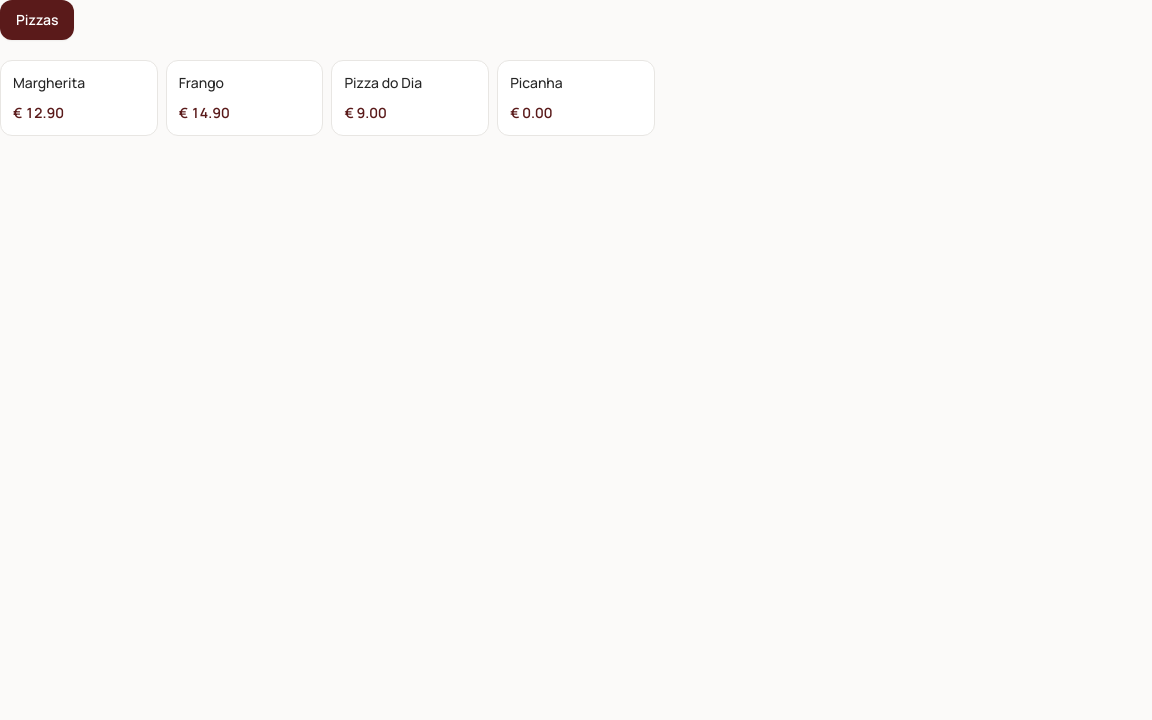
it: meia-meia: sem outro sabor possível diz-o em vez de uma lista vazia
Click the button "Pizza do Dia € 9.00".
click(410, 98)  # box [331,60,489,136]
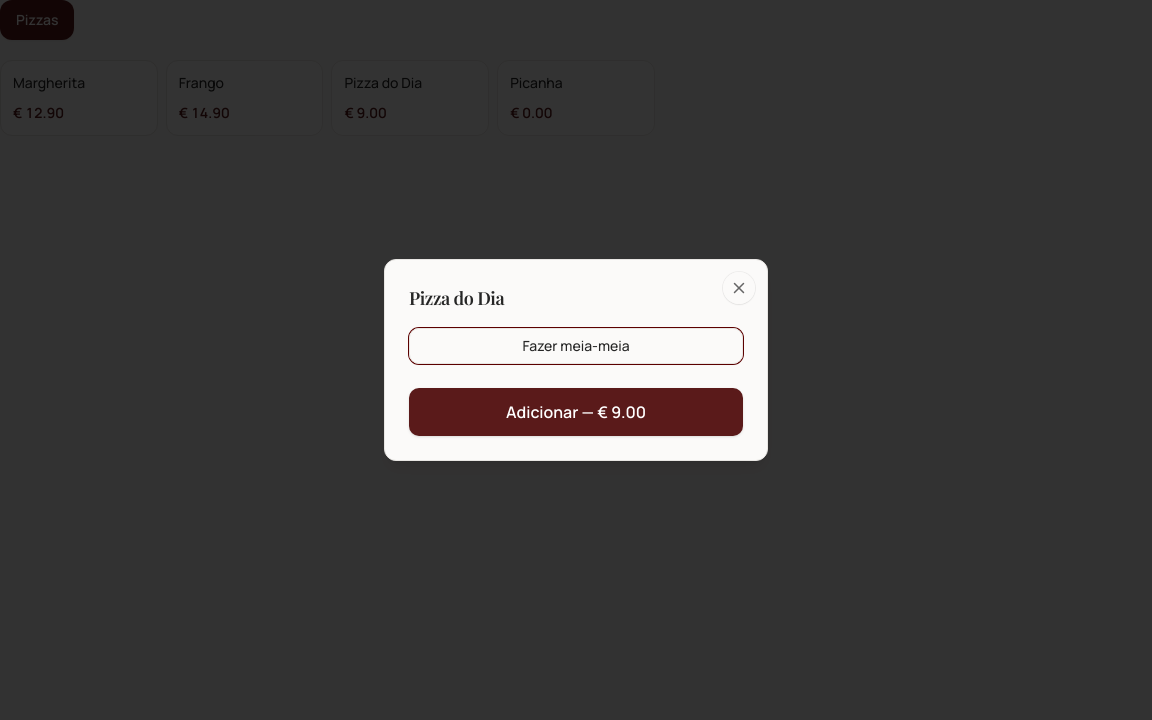
Click the button "Fazer meia-meia".
click(576, 346)  # box [409,328,743,364]
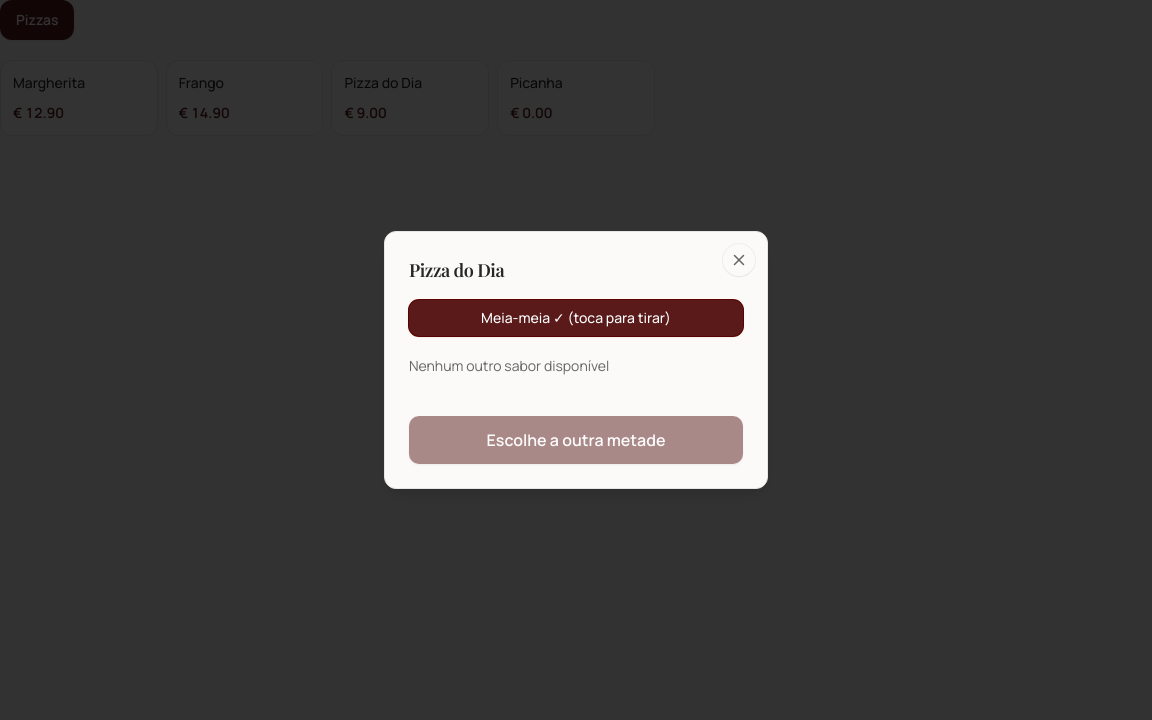
Expected: the text "Outra metade" is not shown
Now the dialog shows "Nenhum outro sabor disponível", box [409,356,609,375]
